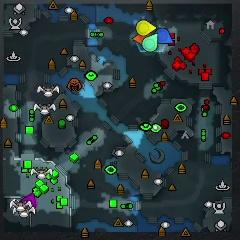p1: (156, 28, 173, 44)
p2: (142, 34, 157, 52)
p3: (21, 193, 37, 208)
p4: (136, 19, 156, 35)
p5: (133, 31, 143, 45)
